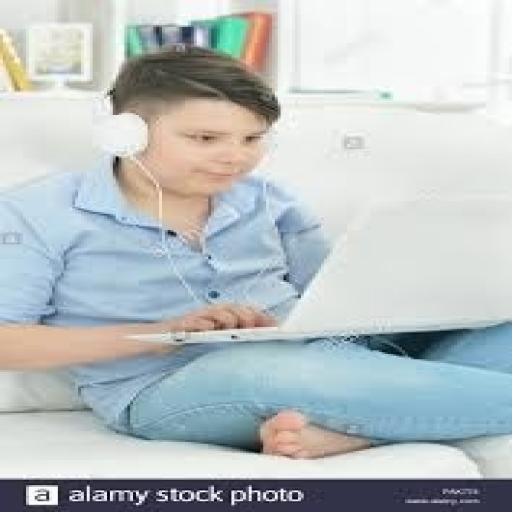using_laptop: (122, 194, 509, 345)
